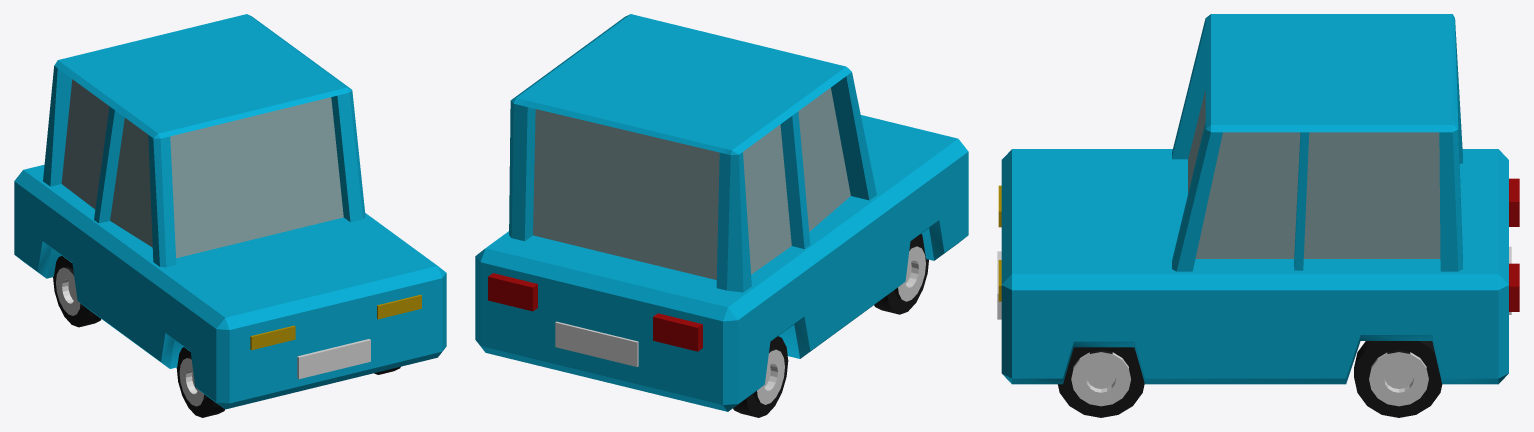
The model's file is Ncar1 (3).fbx.
3 renders of one model, left to right at view 1: azimuth 30°, elevation 25°; view 2: azimuth 150°, elevation 25°; view 3: azimuth 270°, elevation 25°, orthographic. The views are drawn at different scales.
Visible parts, largest first — view 1: car3; view 2: car3; view 3: car3.
Boxes of the visible parts, x1,y1,x2,y2 form: car3: [14, 14, 446, 417]; car3: [475, 14, 968, 417]; car3: [997, 14, 1519, 417].
Size of the model in its own units: 2.33 by 2.38 by 3.8.
